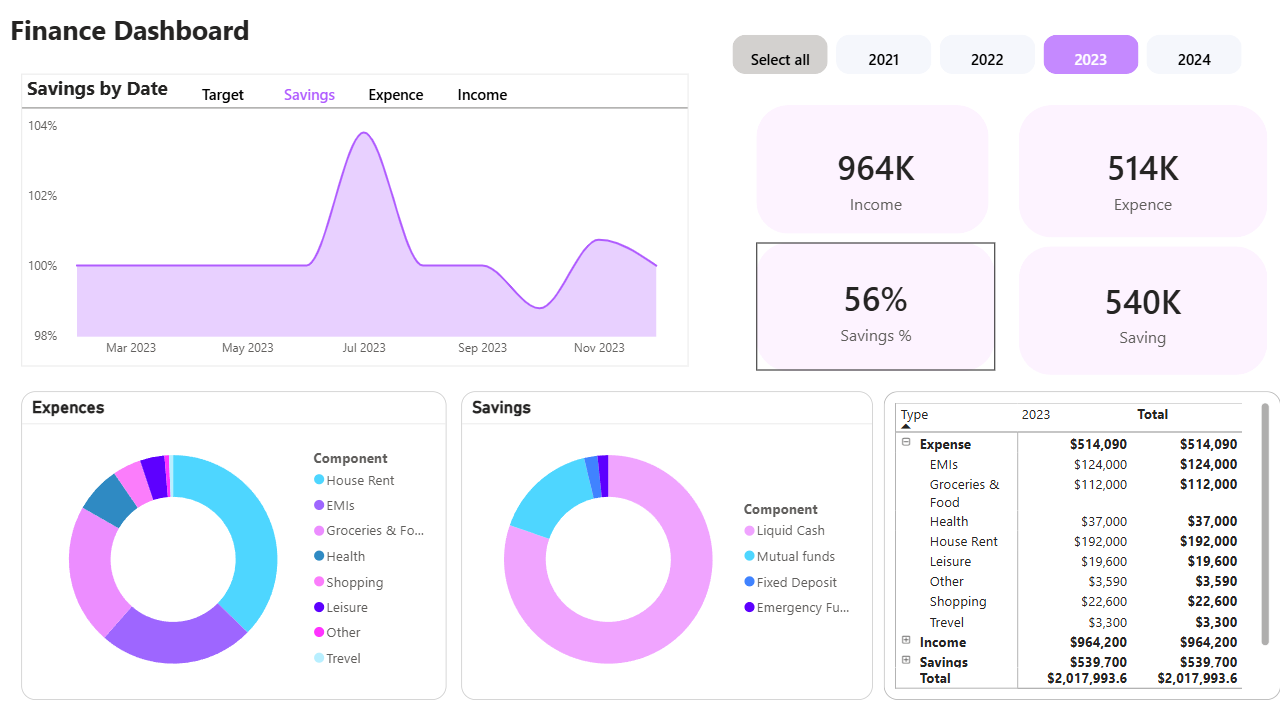

What the dashboard file says about the page in this screenshot:
{"tool":"powerbi","page":{"name":"Page 1","canvas":[1280,720],"ordinal":0},"visuals":[{"type":"shape","box":[1018.8,114.4,247.5,131.9],"z":0},{"type":"shape","box":[757.6,114.4,231.4,128.1],"z":1000},{"type":"shape","box":[1018.8,255,247.5,128.1],"z":2000},{"type":"shape","box":[757.6,251.3,237.6,128.1],"z":3000},{"type":"card","fields":{"Values":["FinData.Expence"]},"box":[1081,133.1,123.2,109.5],"z":4000},{"type":"card","fields":{"Values":["FinData.Income"]},"box":[802.4,146.8,141.8,82.1],"z":5000},{"type":"card","fields":{"Values":["FinData.Saving%"]},"box":[806.1,263.7,141.8,108.2],"z":6000},{"type":"card","fields":{"Values":["FinData.Saving"]},"box":[1069.8,263.7,145.5,113.2],"z":7000},{"type":"advancedSlicerVisual","fields":{"Values":["FinData.Year"]},"box":[729,39.8,520,49.8],"z":8000},{"type":"donutChart","title":"Savings","fields":{"Category":["FinData.Component"],"Y":["FinData.Saving"]},"box":[464,399.3,409.3,307.3],"z":9000},{"type":"donutChart","title":"Expences","fields":{"Category":["FinData.Component"],"Y":["FinData.Expence"]},"box":[26.1,399.3,422.9,307.3],"z":10000},{"type":"pivotTable","fields":{"Rows":["FinData.Type","FinData.Component"],"Values":["FinData.Totalvalue"],"Columns":["FinData.Year"]},"box":[884.5,399.3,395.6,307.3],"z":11000},{"type":"areaChart","fields":{"Category":["FinData.Date"],"Y":["FinData.line_chart_measure"]},"box":[26.1,83.3,664.3,291.1],"z":12000},{"type":"advancedSlicerVisual","fields":{"Values":["line_selection.Type"]},"box":[182.9,58.5,436.6,63.4],"z":13000},{"type":"textbox","box":[10,16.2,376.9,47.3],"z":14000}]}

Visuals, with their boxes in screenshot pixels (x1, y1, x2, y2), scaled from the page's 1280x720 canvas onto the 1280x712 screenshot:
shape: (1019, 113, 1266, 244)
shape: (758, 113, 989, 240)
shape: (1019, 252, 1266, 379)
shape: (758, 249, 995, 375)
card - FinData.Expence: (1081, 132, 1204, 240)
card - FinData.Income: (802, 145, 944, 226)
card - FinData.Saving%: (806, 261, 948, 368)
card - FinData.Saving: (1070, 261, 1215, 373)
advancedSlicerVisual - FinData.Year: (729, 39, 1249, 89)
"Savings" donutChart: (464, 395, 873, 699)
"Expences" donutChart: (26, 395, 449, 699)
pivotTable - FinData.Type x FinData.Component: (884, 395, 1279, 699)
areaChart - FinData.Date x FinData.line_chart_measure: (26, 82, 690, 370)
advancedSlicerVisual - line_selection.Type: (183, 58, 620, 121)
textbox: (10, 16, 387, 63)
